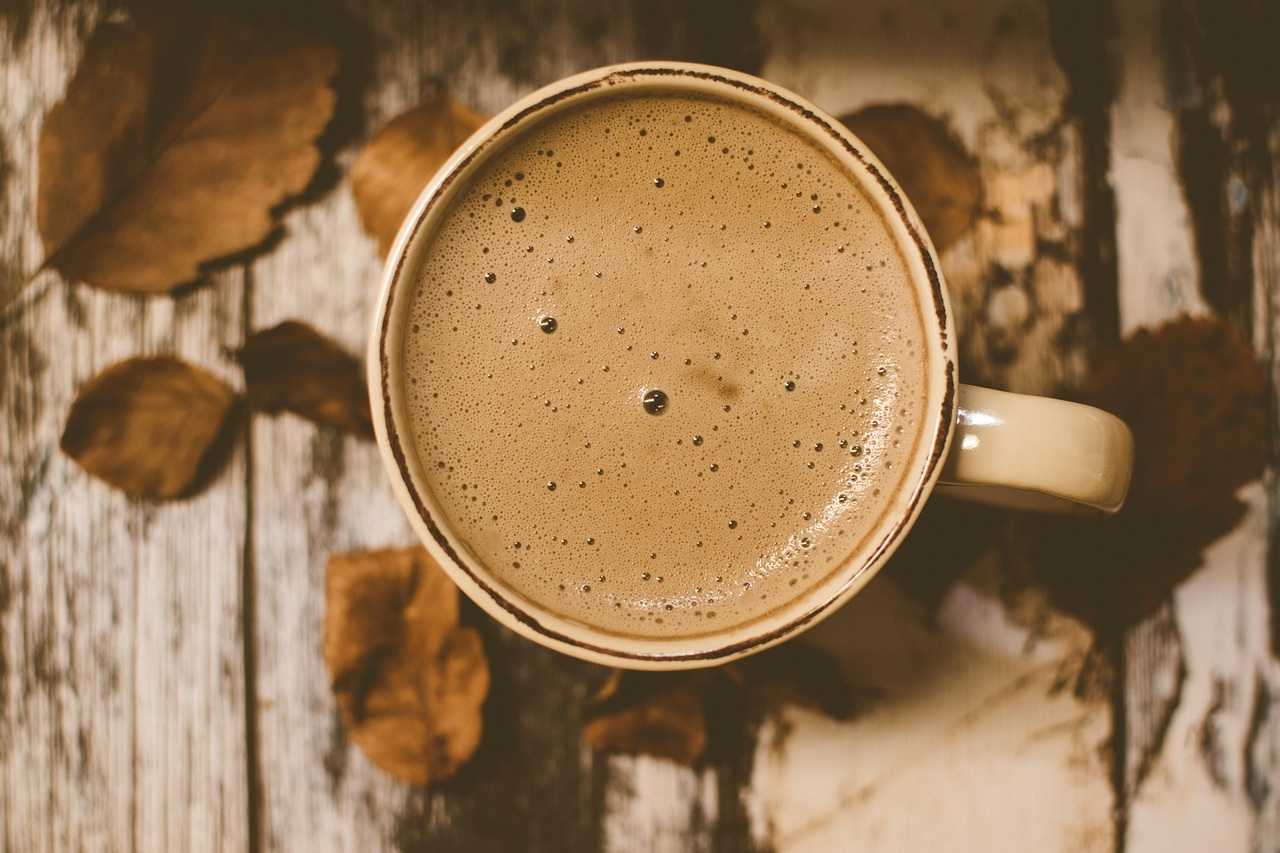mug: (304, 45, 1218, 730)
